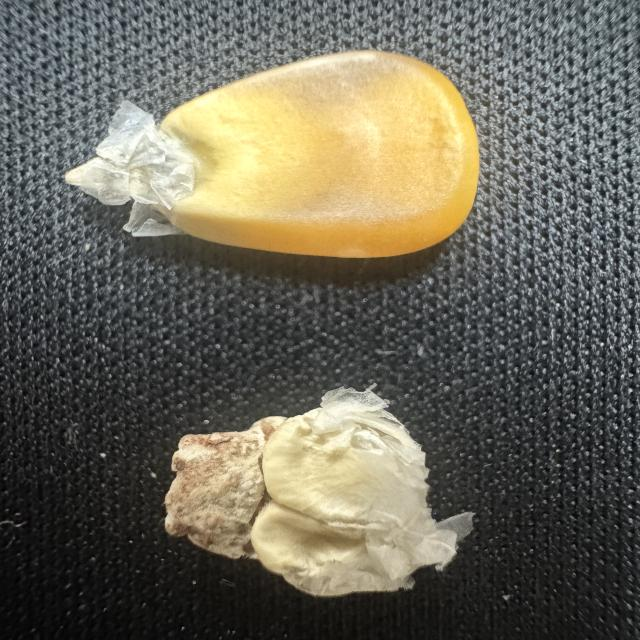Bad-Seed: (140, 381, 477, 601)
Good-Seed: (64, 42, 499, 284)
